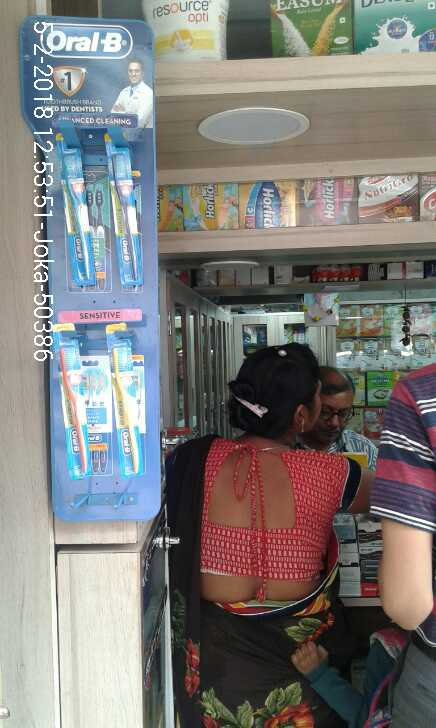oralb: (54, 127, 103, 286), (100, 126, 147, 290), (103, 316, 145, 478), (52, 326, 93, 483)
